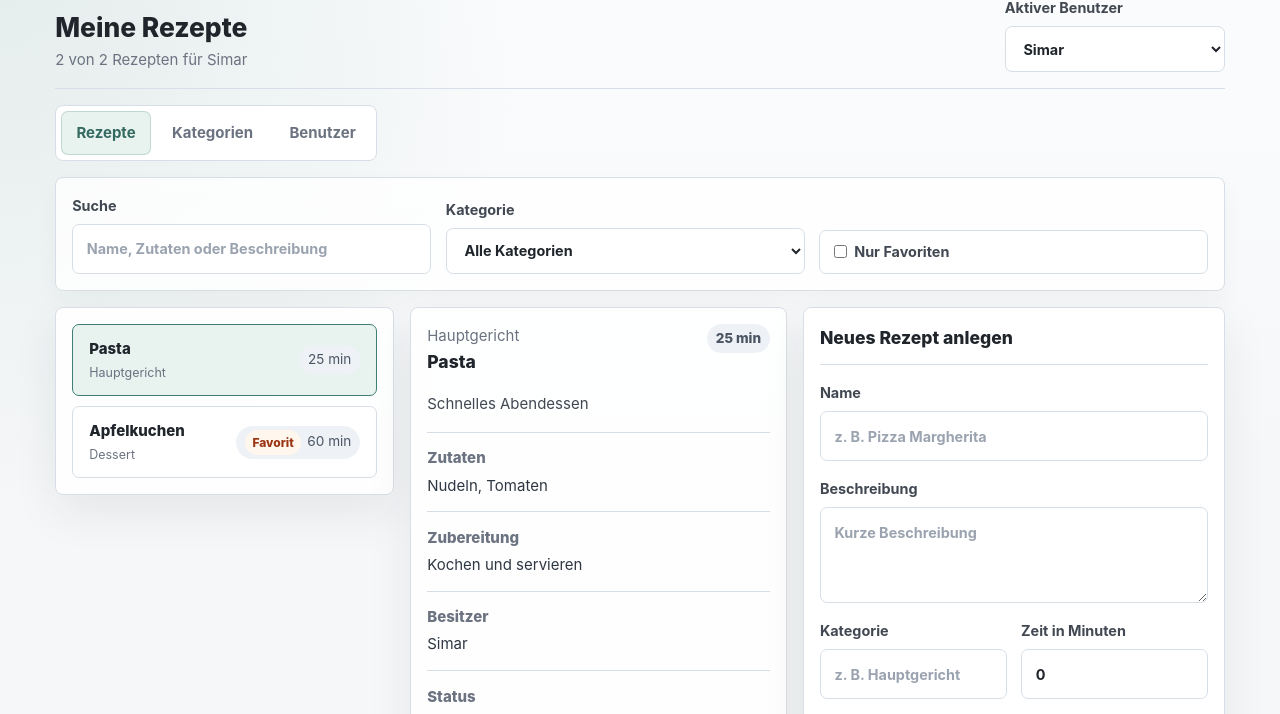
RecipeList › selects a recipe and shows its detail view
Click the button with class "recipe-row" that starts with "Apfelkuchen" at (137, 430), box [72,406,377,478]
(page scrolled)
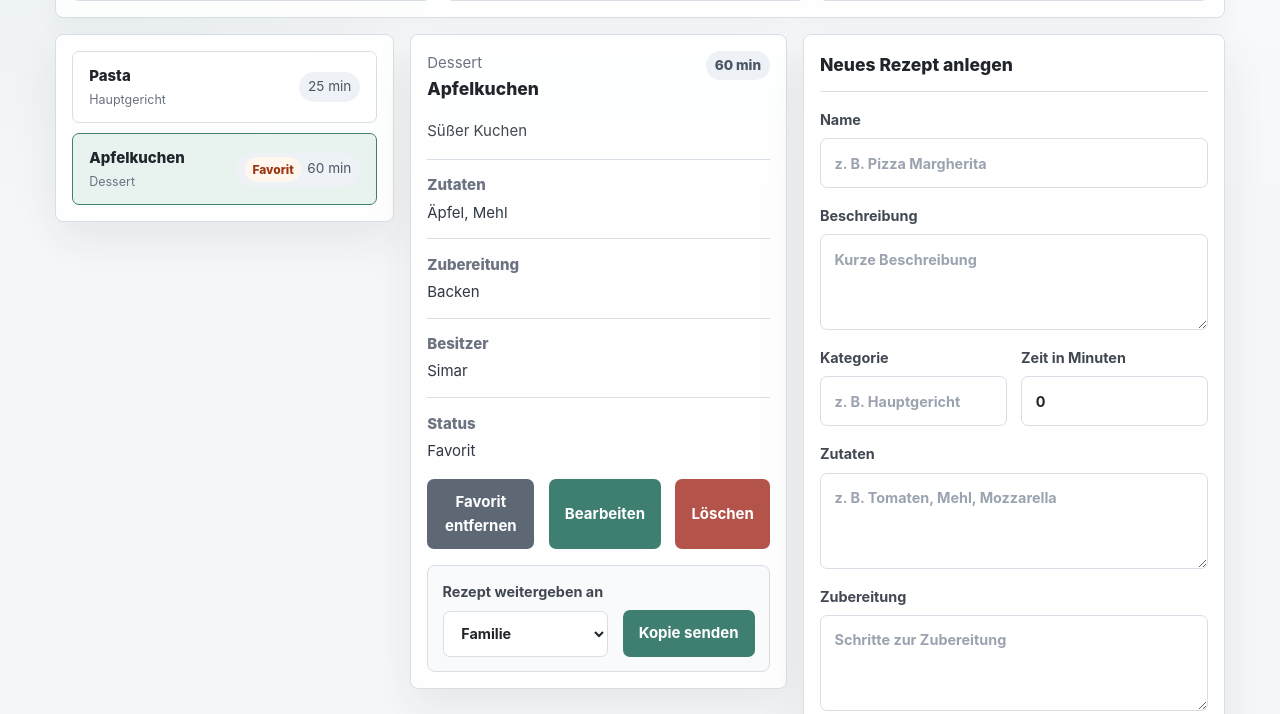
Check: the element with class "recipe-detail" shows "Apfelkuchen", box [427,78,539,99]
Check: the element with class "recipe-detail" shows "Backen", box [427,282,480,301]
